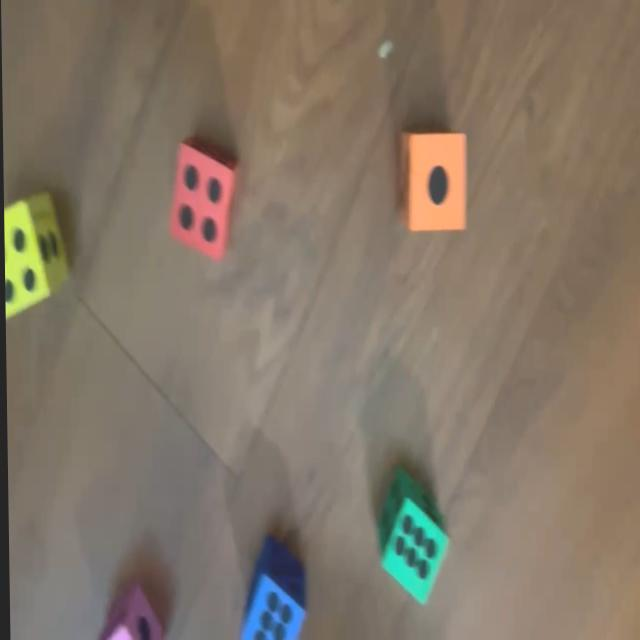cube: (374, 468, 446, 608), (168, 139, 241, 260), (237, 536, 303, 640)
